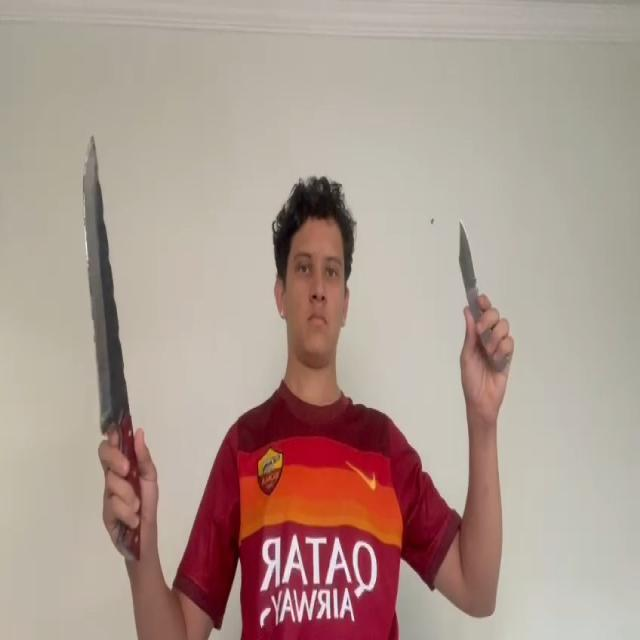knife: (82, 132, 130, 432), (458, 215, 476, 292)
